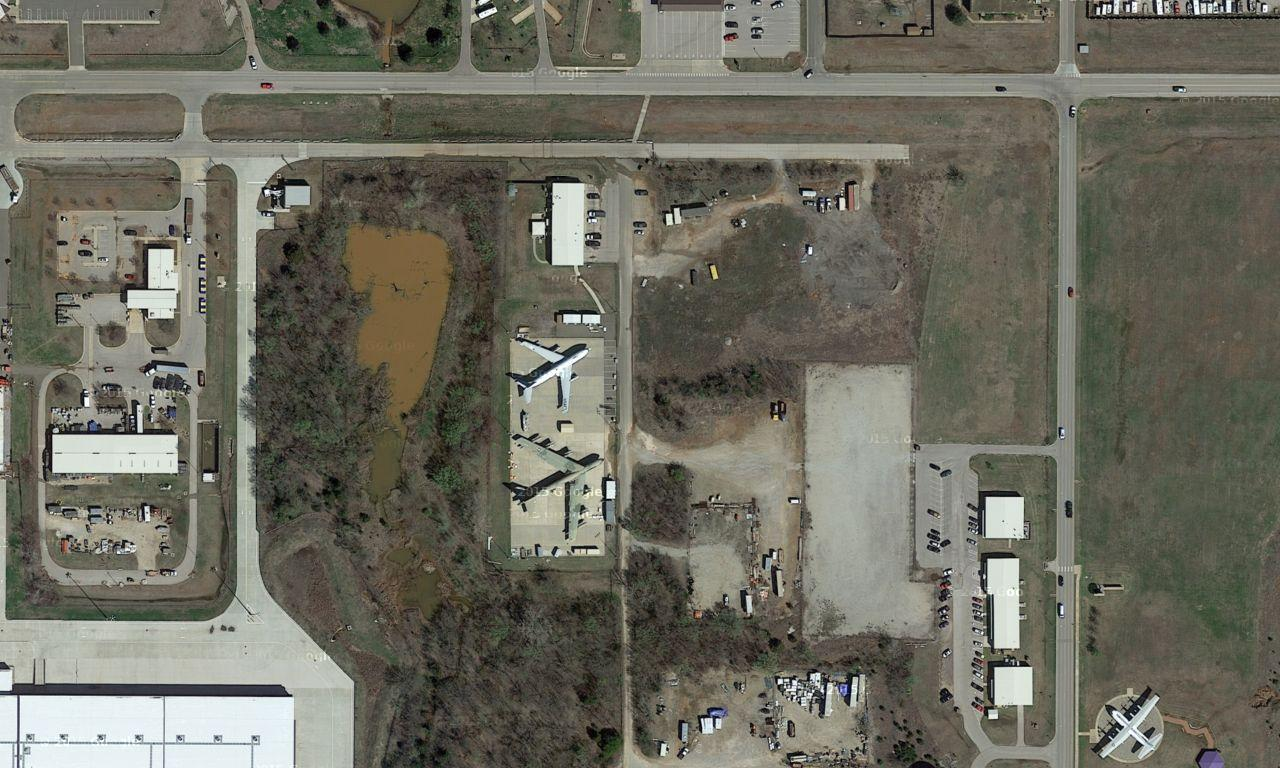B-52: (499, 429, 603, 543)
C-130: (1092, 690, 1168, 764)
E-8: (511, 332, 590, 411)
